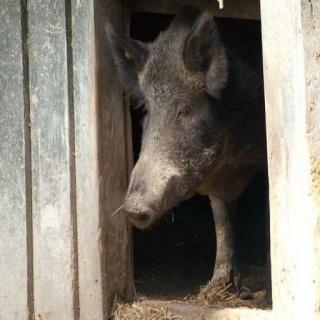Pig: (112, 20, 284, 312)
